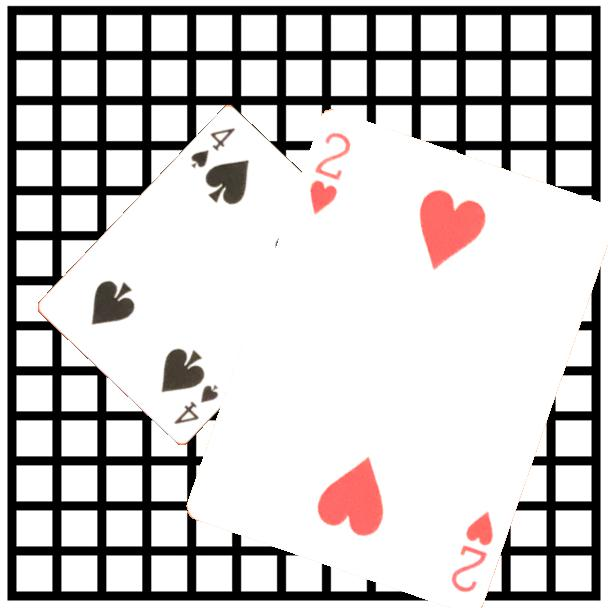h02: (447, 508, 497, 596), (306, 129, 354, 218)
s04: (170, 381, 221, 428), (187, 124, 238, 171)
